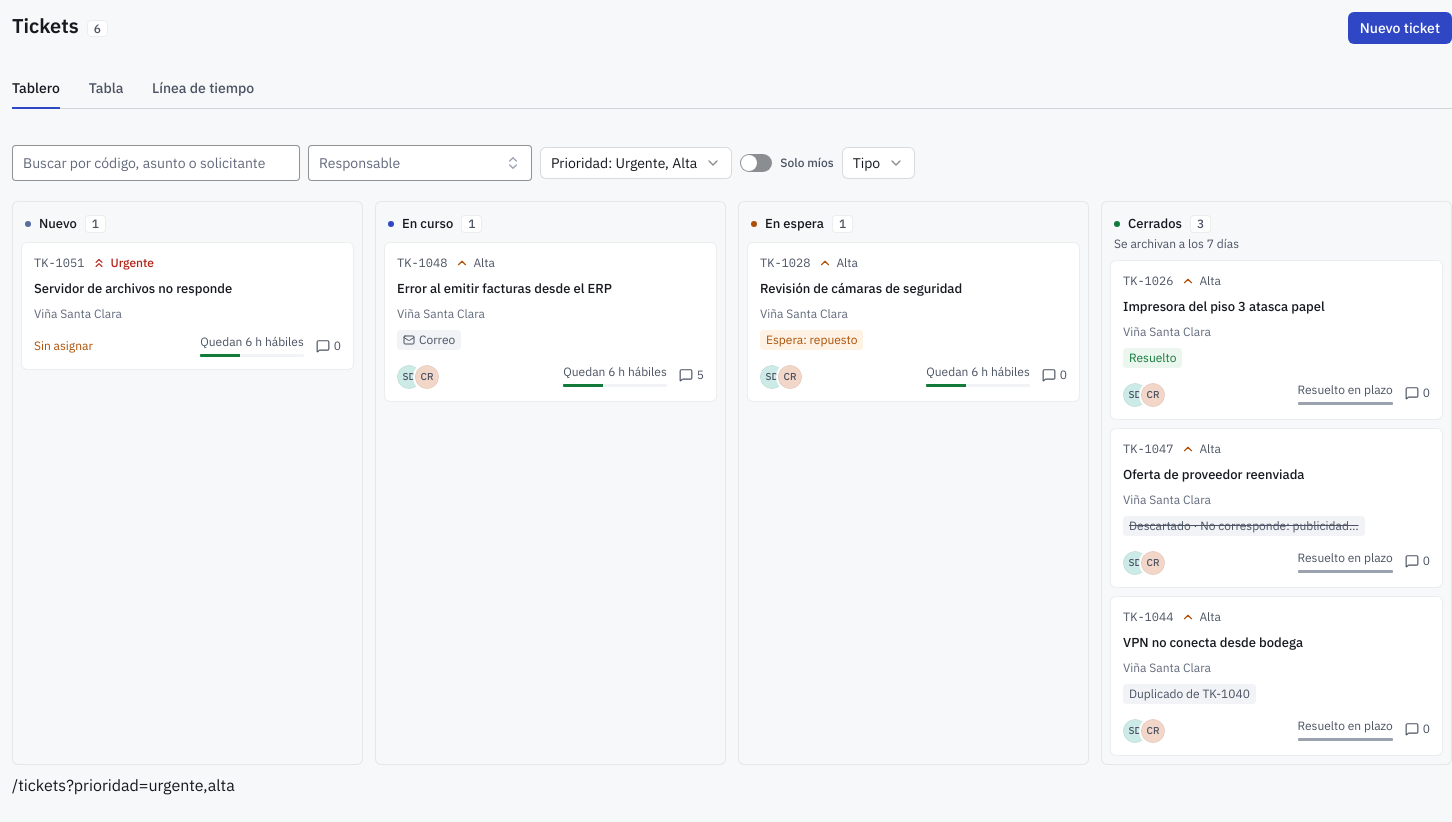
Test case: los filtros viven en la URL y se envían a la API
Expected: the element "TK-1048" is shown, [384, 242, 717, 402]
Expected: the button "Prioridad: Urgente, Alta" is shown, [540, 147, 732, 179]
Click the switch named "Solo míos" at (756, 163), box [740, 154, 772, 172]
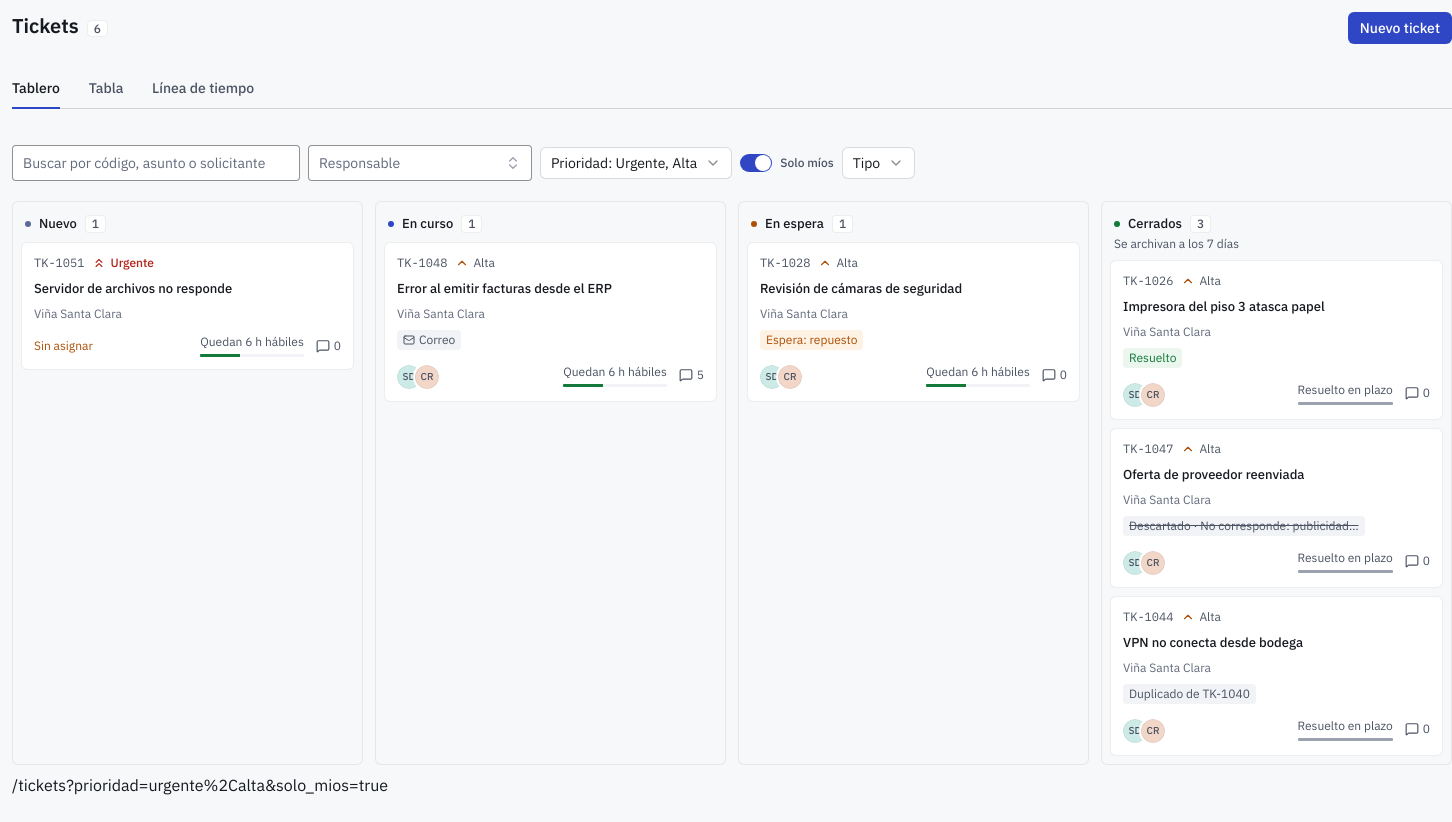
Expected: the text with test id "ubicacion" shows "solo_mios=true", [12, 774, 388, 794]
Type "vpn" into the search field named "Buscar tickets" at (156, 163), box [12, 145, 300, 181]
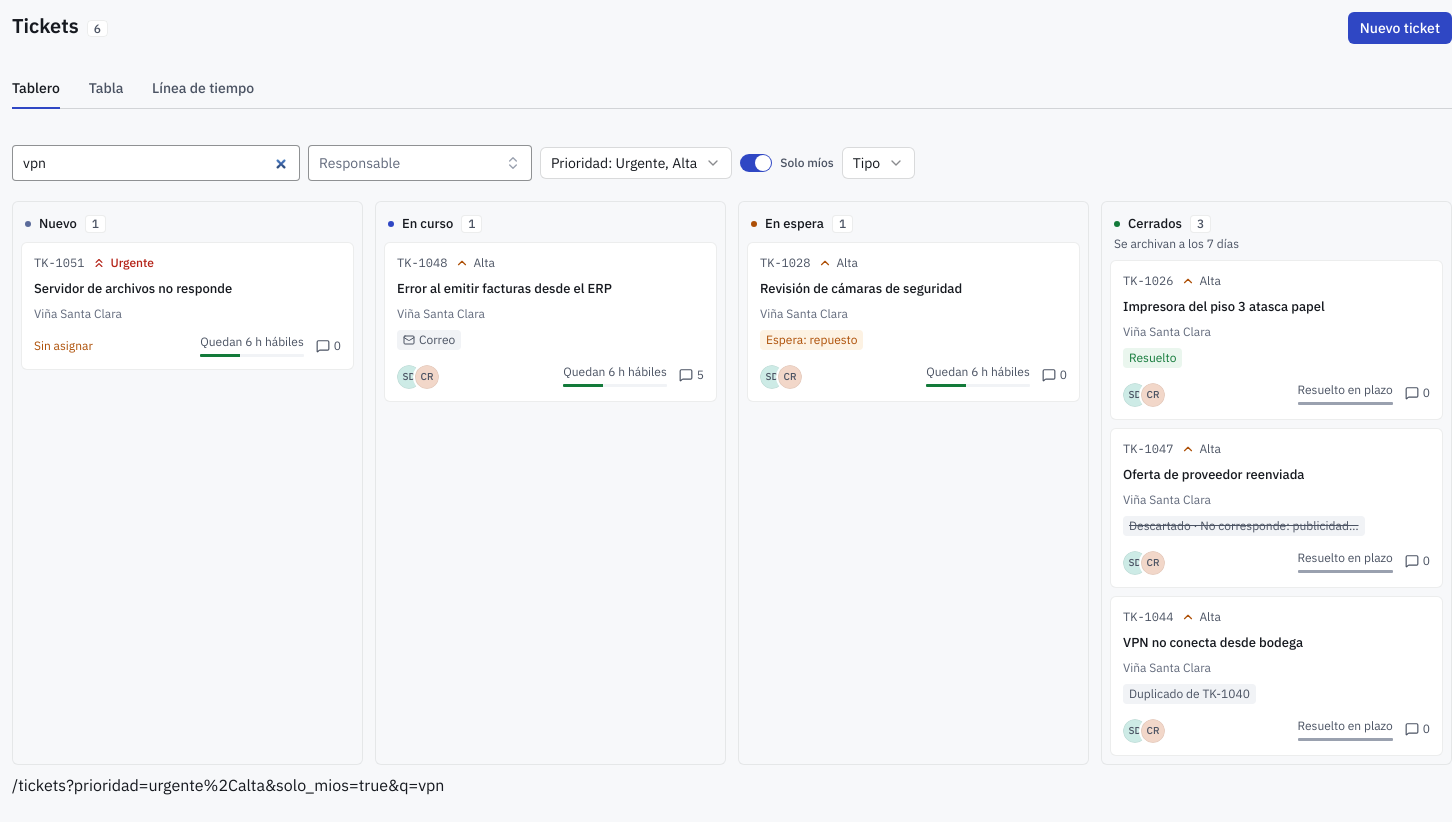
Expected: the text with test id "ubicacion" shows "q=vpn", [12, 774, 444, 794]
